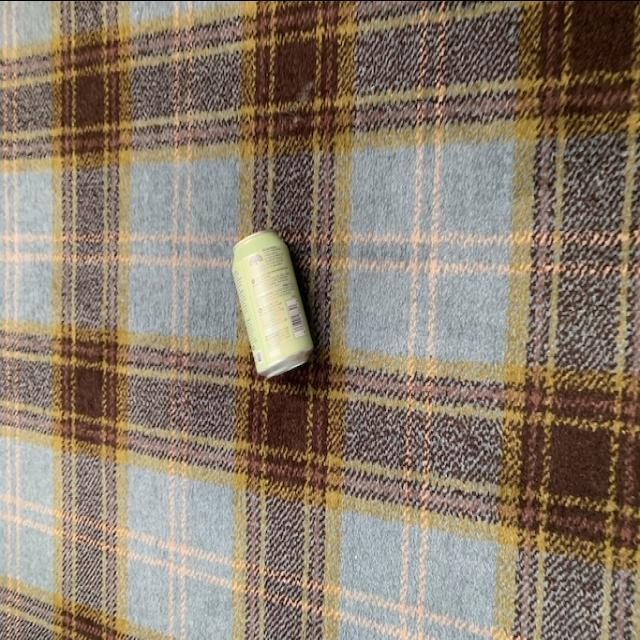litter: (230, 224, 316, 378)
